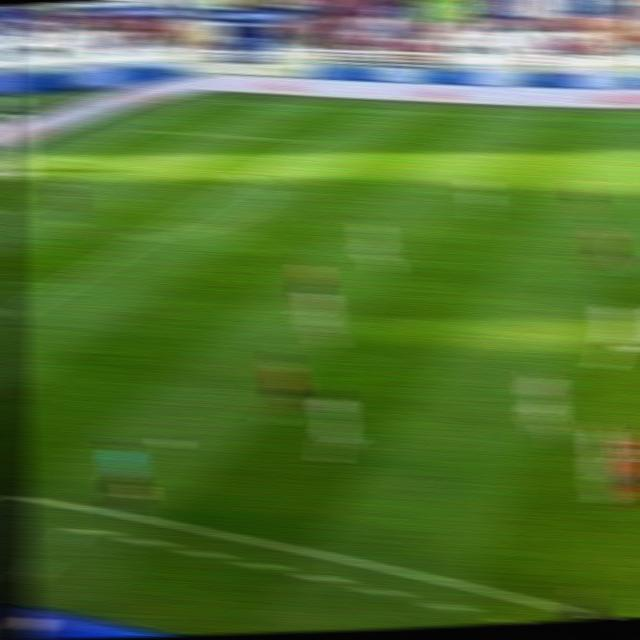bigarea_bottom_inner: (2, 304, 20, 324)
bigarea_top_inner: (292, 131, 327, 150)
bigarea_top_outter: (117, 121, 157, 136)
bottom_arc_area_intersection: (130, 229, 162, 245)
corner: (199, 95, 225, 103)
smallarea_top_inner: (105, 154, 140, 172)
top_arc_area_intersection: (229, 169, 266, 191)
